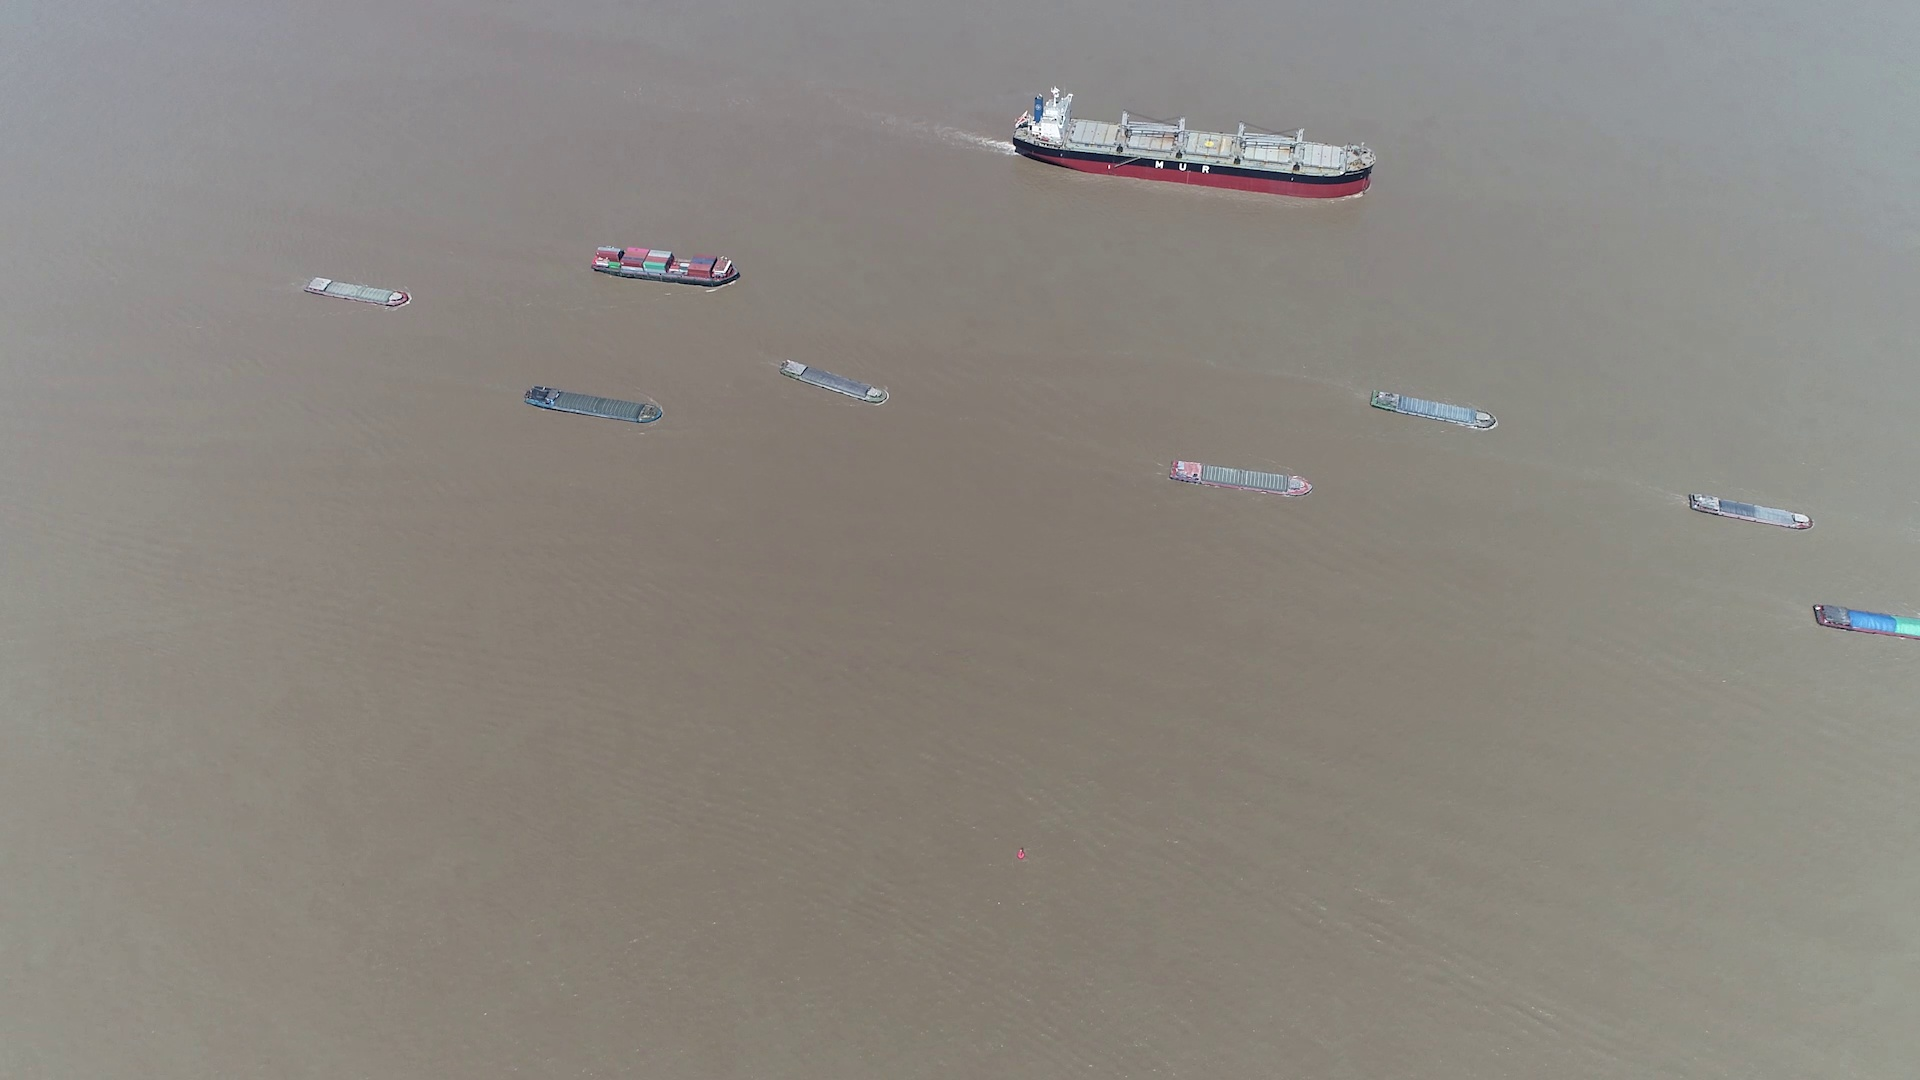ship: (1011, 88, 1374, 196), (589, 245, 741, 287), (1367, 389, 1497, 433), (1168, 459, 1312, 497), (524, 386, 661, 425), (781, 360, 890, 406), (1687, 492, 1815, 530), (1812, 603, 1919, 640), (303, 276, 407, 307)
